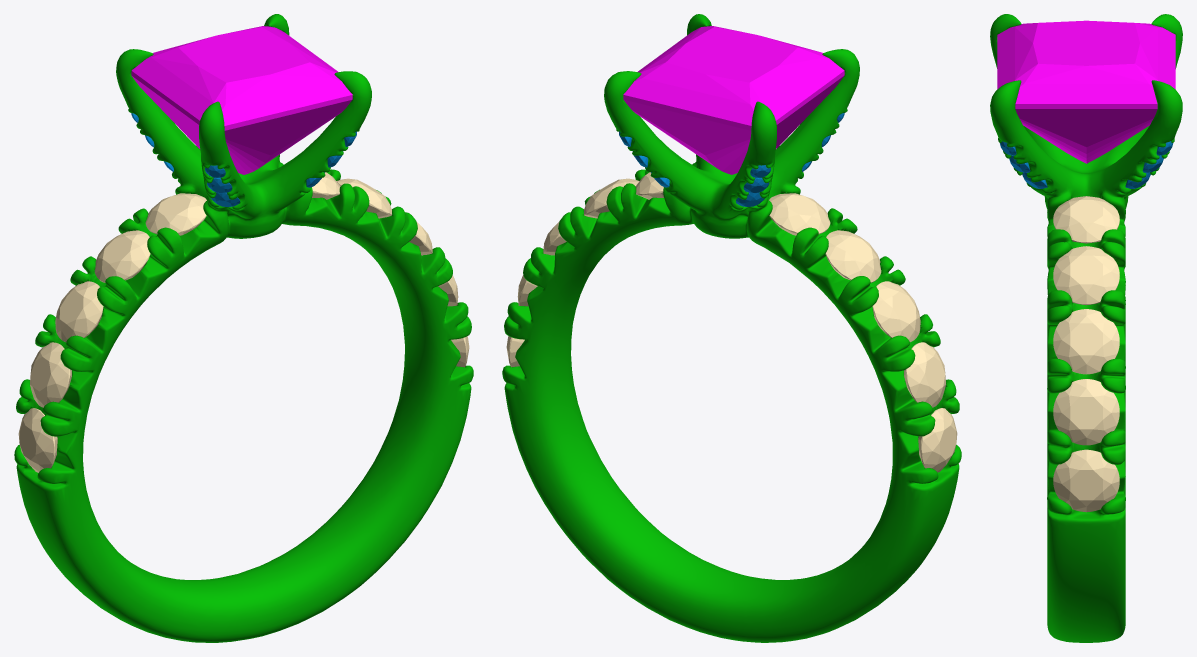
File: BE1D8721P_PR_200ct_RENDER.glb
The picture shows the model from 3 angles, left to right: view 1: azimuth 30°, elevation 25°; view 2: azimuth 150°, elevation 25°; view 3: azimuth 270°, elevation 25°; orthographic projection.
Parts seen in each view (by area): view 1: Metal 01, CS_Diamond_Princess, Diamond_Round_Gem_SH.002, Diamond_Round_Gem_SH.003, Diamond_Round_Gem_SH.001, Diamond_Round_Gem_SH.004, Diamond_Round_Gem_SH, Diamond_Round_Gem_SH.006; view 2: Metal 01, CS_Diamond_Princess, Diamond_Round_Gem_SH.002, Diamond_Round_Gem_SH.003, Diamond_Round_Gem_SH.001, Diamond_Round_Gem_SH.004, Diamond_Round_Gem_SH, Diamond_Round_Gem_SH.006; view 3: Metal 01, CS_Diamond_Princess, Diamond_Round_Gem_SH.008, Diamond_Round_Gem_SH.007, Diamond_Round_Gem_SH.009, Diamond_Round_Gem_SH.006, Diamond_Round_Gem_SH.005.
Part boxes in pixels (bbox=[...]): Metal 01: bbox=[14, 14, 473, 642]; CS_Diamond_Princess: bbox=[131, 26, 352, 174]; Diamond_Round_Gem_SH.002: bbox=[55, 281, 103, 342]; Diamond_Round_Gem_SH.003: bbox=[94, 230, 150, 282]; Diamond_Round_Gem_SH.001: bbox=[30, 342, 71, 407]; Diamond_Round_Gem_SH.004: bbox=[145, 193, 206, 235]; Diamond_Round_Gem_SH: bbox=[18, 408, 57, 472]; Diamond_Round_Gem_SH.006: bbox=[336, 178, 391, 218]; Metal 01: bbox=[502, 14, 961, 642]; CS_Diamond_Princess: bbox=[623, 26, 844, 174]; Diamond_Round_Gem_SH.002: bbox=[872, 281, 920, 342]; Diamond_Round_Gem_SH.003: bbox=[825, 230, 881, 282]; Diamond_Round_Gem_SH.001: bbox=[904, 342, 945, 407]; Diamond_Round_Gem_SH.004: bbox=[769, 193, 830, 235]; Diamond_Round_Gem_SH: bbox=[918, 408, 957, 472]; Diamond_Round_Gem_SH.006: bbox=[584, 178, 639, 218]; Metal 01: bbox=[990, 14, 1182, 642]; CS_Diamond_Princess: bbox=[997, 20, 1175, 163]; Diamond_Round_Gem_SH.008: bbox=[1053, 379, 1119, 445]; Diamond_Round_Gem_SH.007: bbox=[1053, 309, 1119, 374]; Diamond_Round_Gem_SH.009: bbox=[1053, 449, 1119, 512]; Diamond_Round_Gem_SH.006: bbox=[1053, 246, 1119, 305]; Diamond_Round_Gem_SH.005: bbox=[1053, 196, 1119, 243].
Size of the model in its own units: 21.12 by 26.72 by 8.11.
